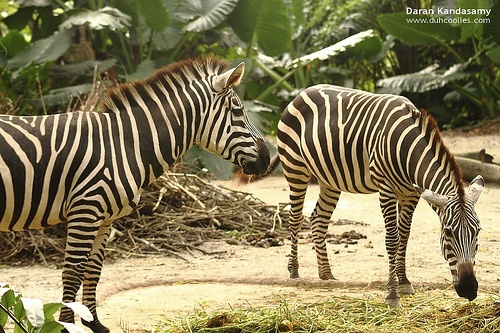zebra: (1, 51, 269, 333), (276, 83, 482, 305)
